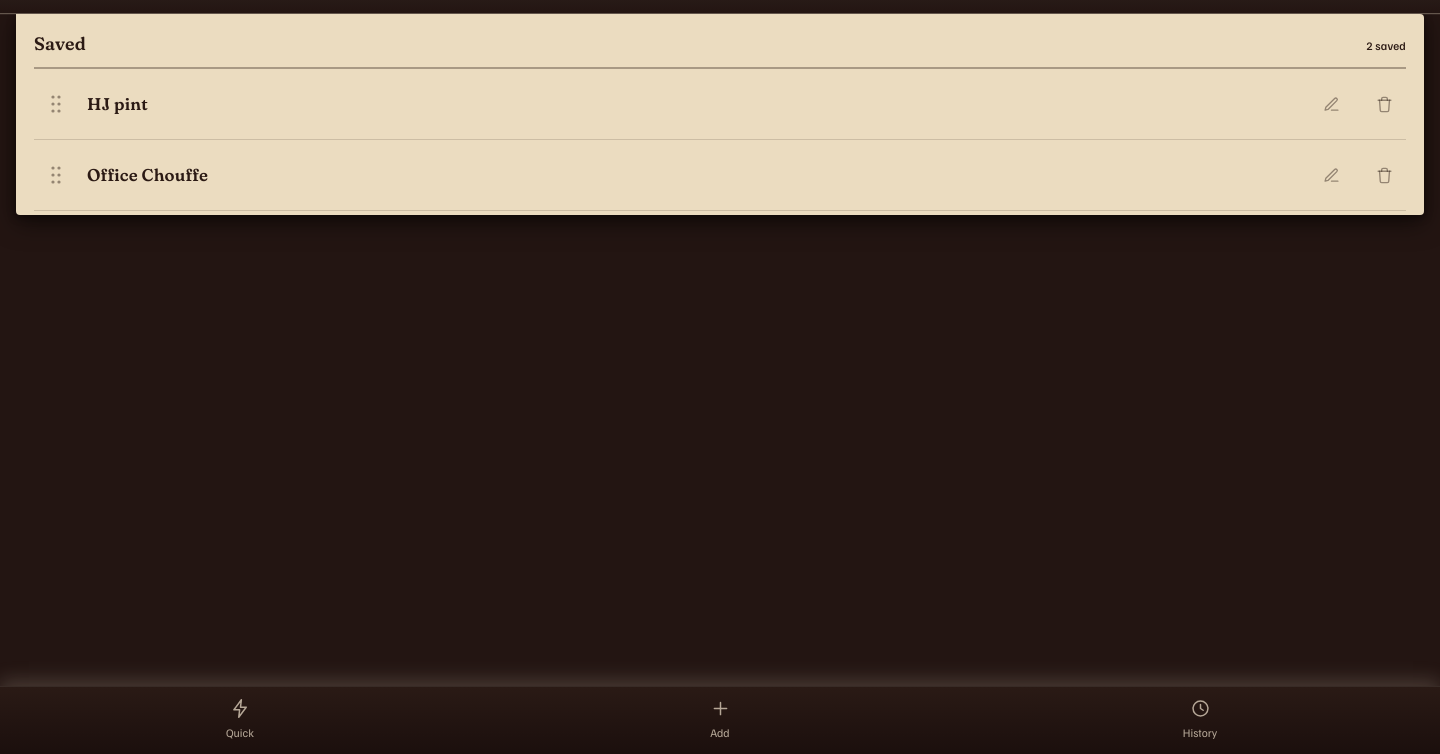
Scenario: RecommendationsPage › redirects home after the edit response commits without refetching the list
This screenshot has width=1440, height=754.
Click the button named "Rename HJ pint".
click(1331, 104)  # box [1309,82,1353,126]
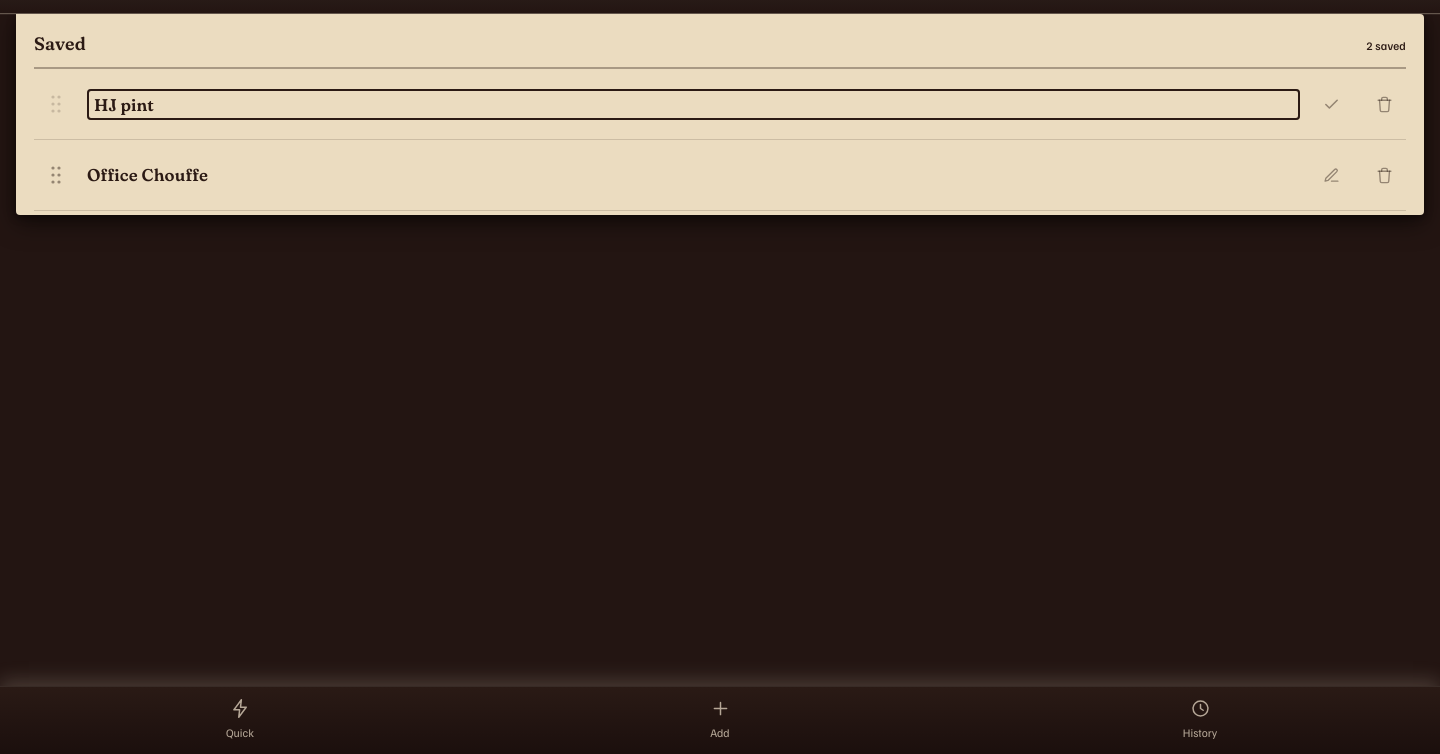
Replace the text in the field with "Home pint" at (694, 104), box [87,88,1300,120]
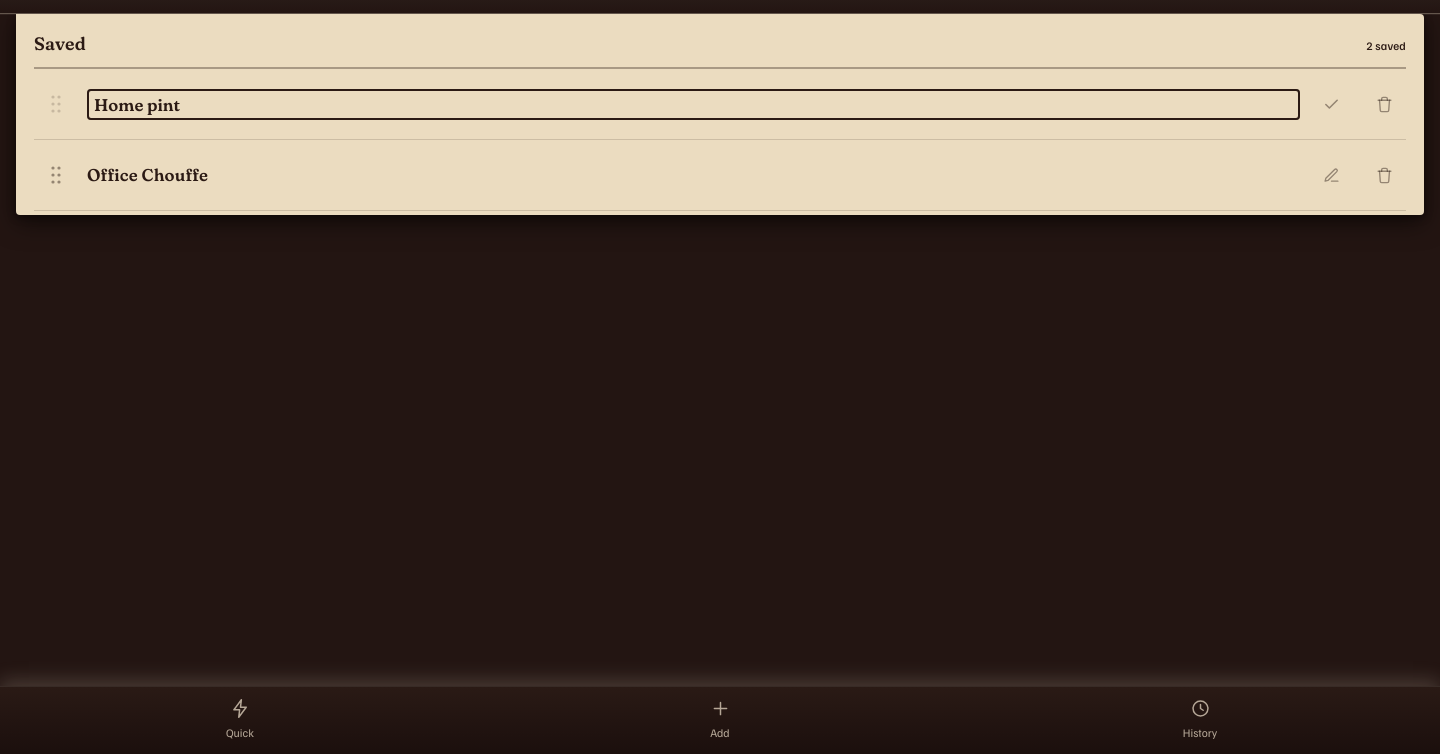
Click the button named "Save name for HJ pint".
click(1331, 104)  # box [1309,82,1353,126]
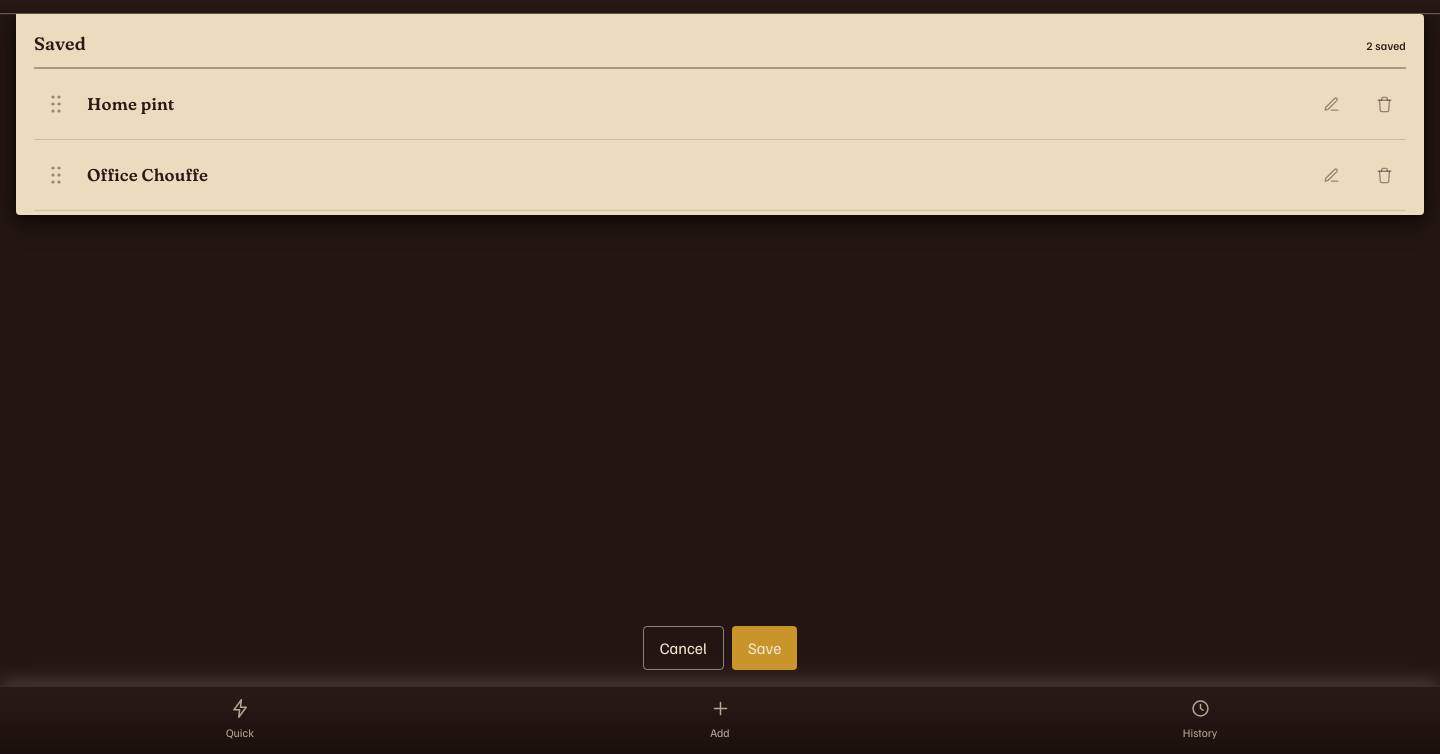
Click the button "Save".
click(764, 648)  # box [732,626,797,670]
Wait 30 ms
(page scrolled)
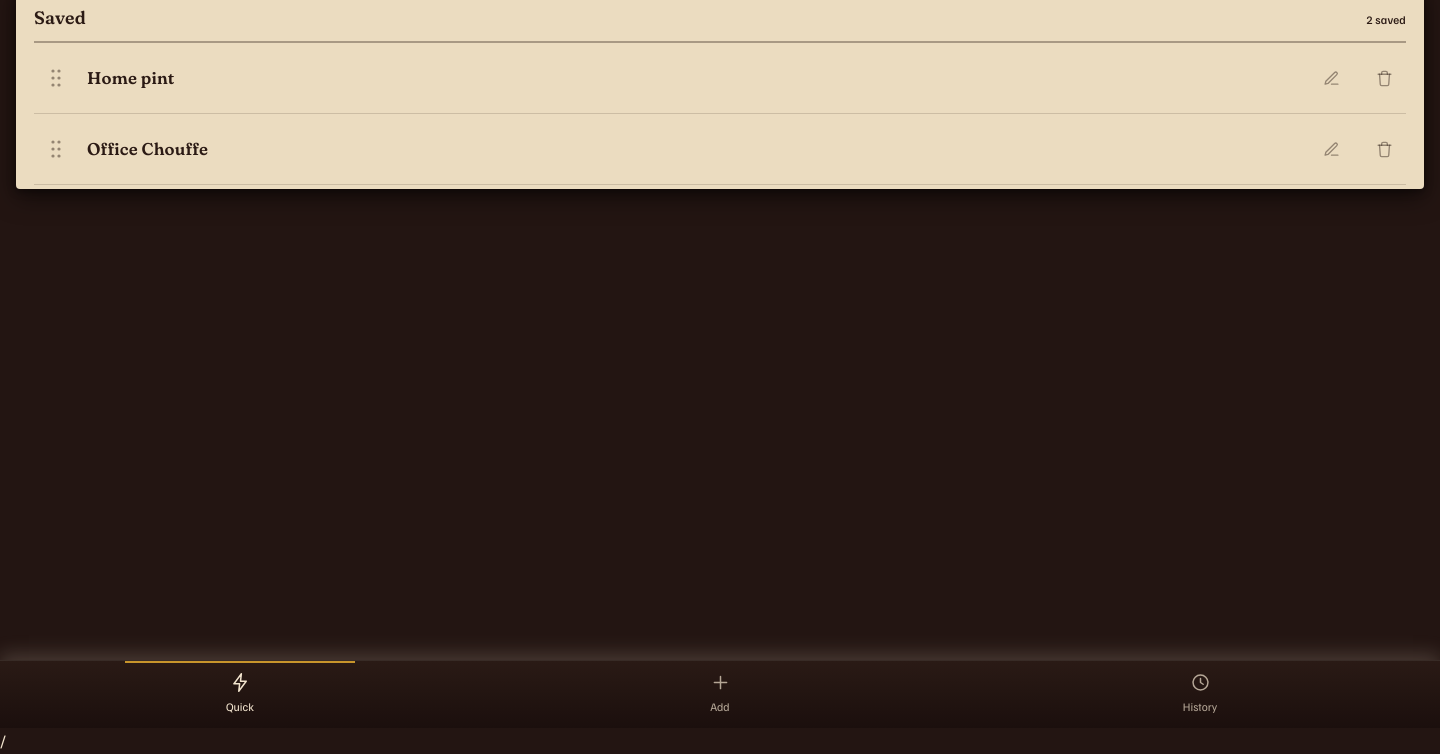
Expected: the text with test id "location" reads "/", [0,729,6,751]
